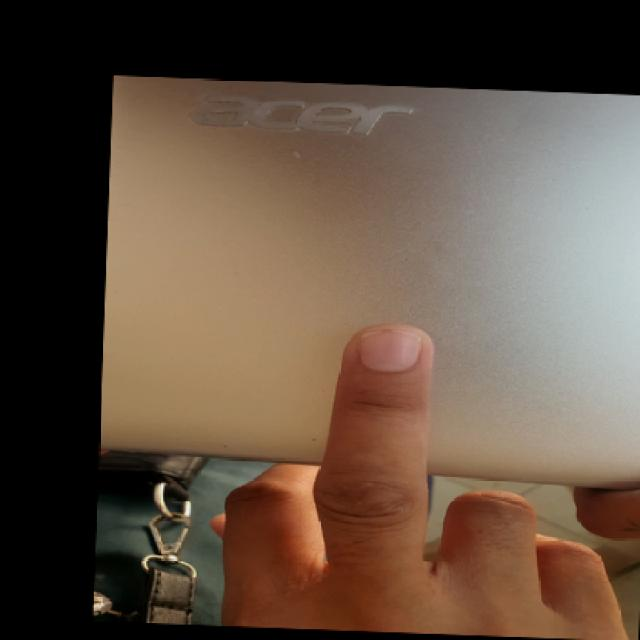Nail: (360, 329, 420, 371)
